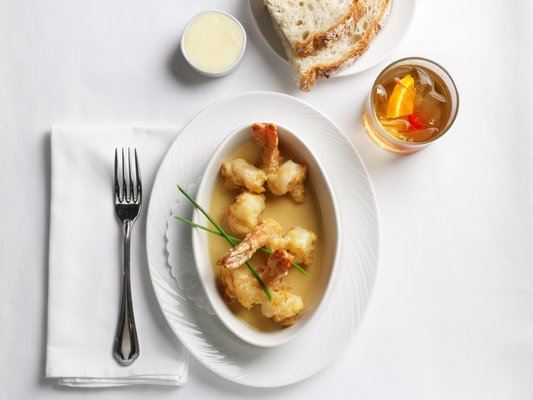soup: (256, 0, 393, 92)
sushi: (185, 116, 341, 349), (361, 56, 460, 155), (180, 10, 247, 78)
